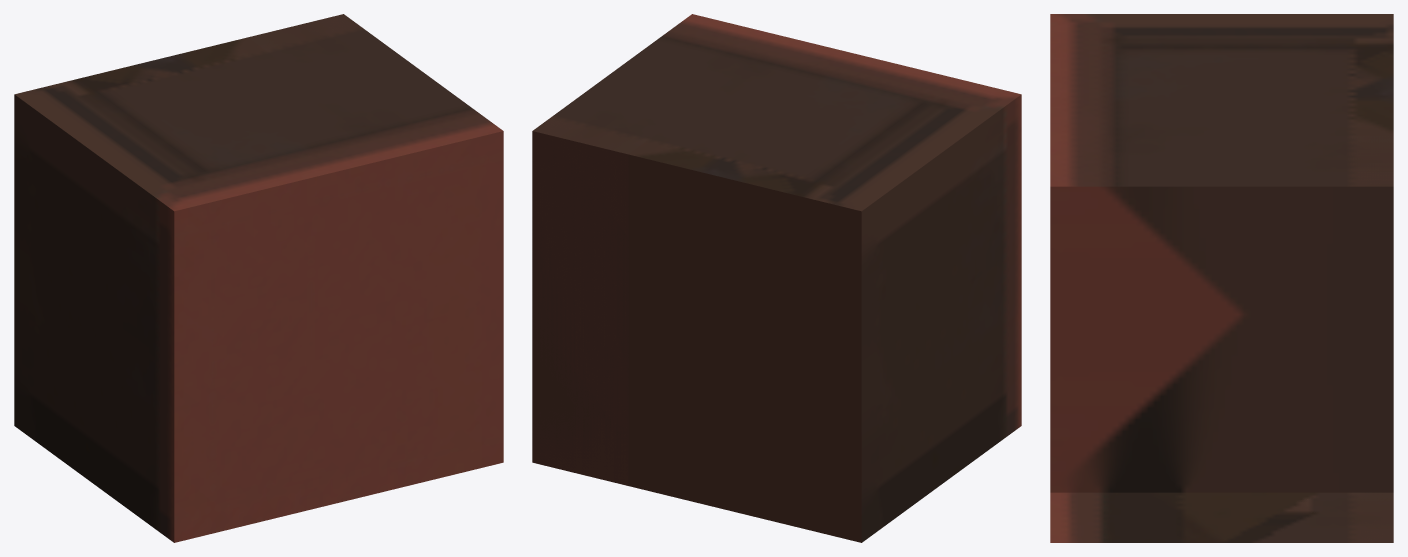
The model's file is section-5.obj.
3 renders of one model, left to right at view 1: azimuth 30°, elevation 25°; view 2: azimuth 150°, elevation 25°; view 3: azimuth 270°, elevation 25°, orthographic. The views are drawn at different scales.
Bounding box in the file's own units: 0.9872 × 0.95 × 0.83.
1 material, 1 textured.
